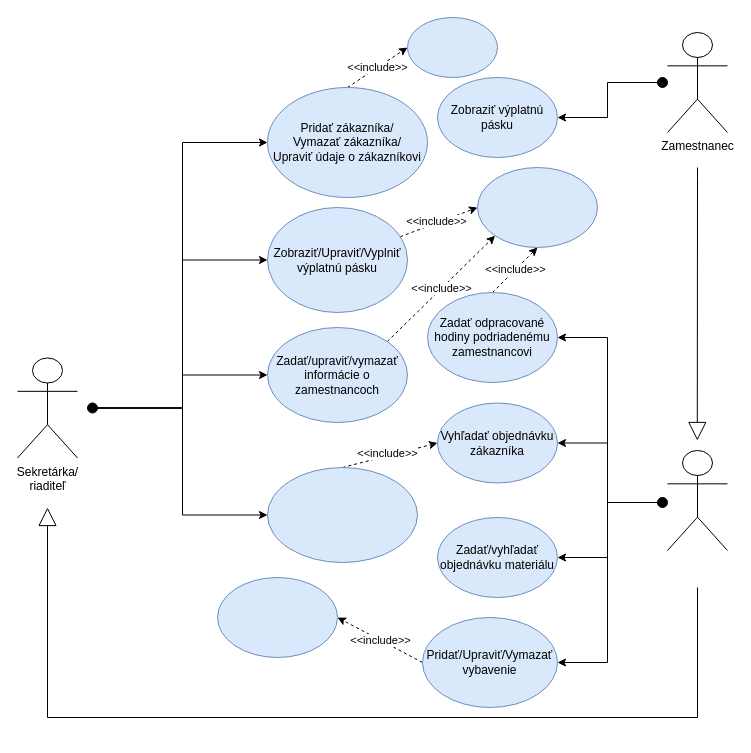
The diagram is 751 pixels wide and 753 high, and some of its shapes have lost their labels. The box of each missing label's shape, as (x1, y1, x2, y2) in pixels:
Stavbyvedúci: (666, 450, 728, 550)
Vyhľadať vybavenie: (216, 576, 338, 658)
Vyhľadať zamestnanca: (476, 166, 598, 248)
Vyhľadať zákazníka: (406, 16, 498, 78)
Vytvoriť objednávku/ Zmazať objednávku/ Upraviť objednávku: (266, 466, 418, 562)
